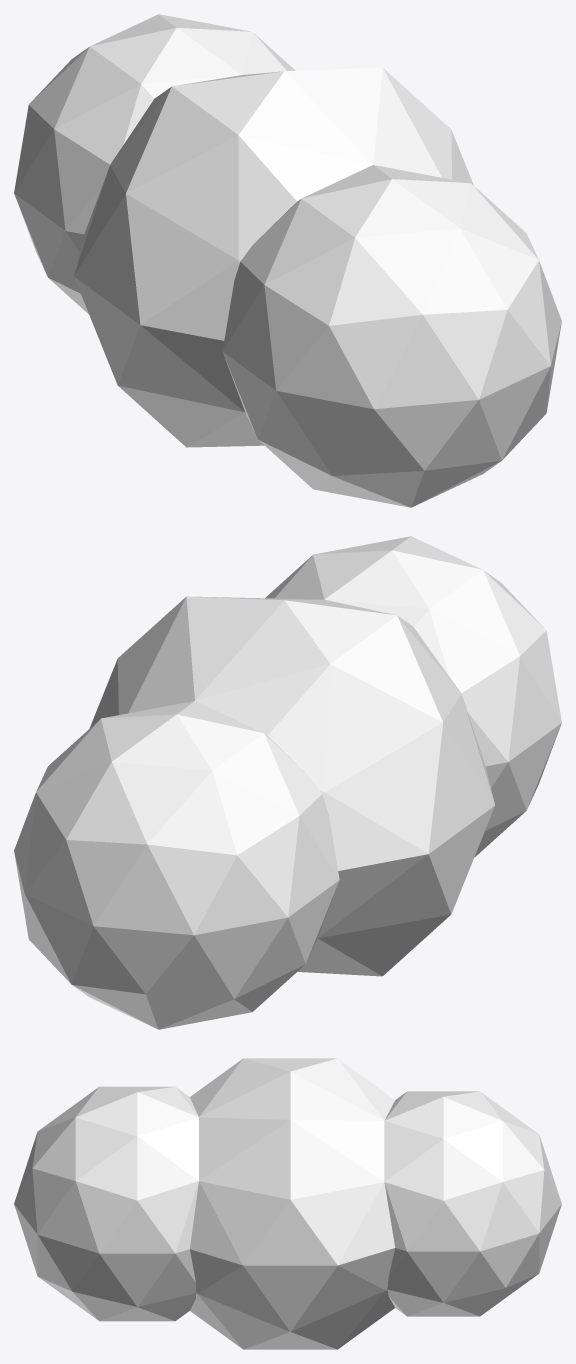
Rendered from cloud.fbx.
3 renders of one model, top to bottom at view 1: azimuth 30°, elevation 25°; view 2: azimuth 150°, elevation 25°; view 3: azimuth 270°, elevation 25°, orthographic. The views are drawn at different scales.
Parts seen in each view (by area): view 1: Cloud; view 2: Cloud; view 3: Cloud.
Part boxes in pixels (x1=…): Cloud: x1=14, y1=14, x2=561, y2=507; Cloud: x1=14, y1=536, x2=561, y2=1029; Cloud: x1=14, y1=1058, x2=561, y2=1349.
Bounding box in the file's own units: 1.9 × 1.89 × 3.58.
